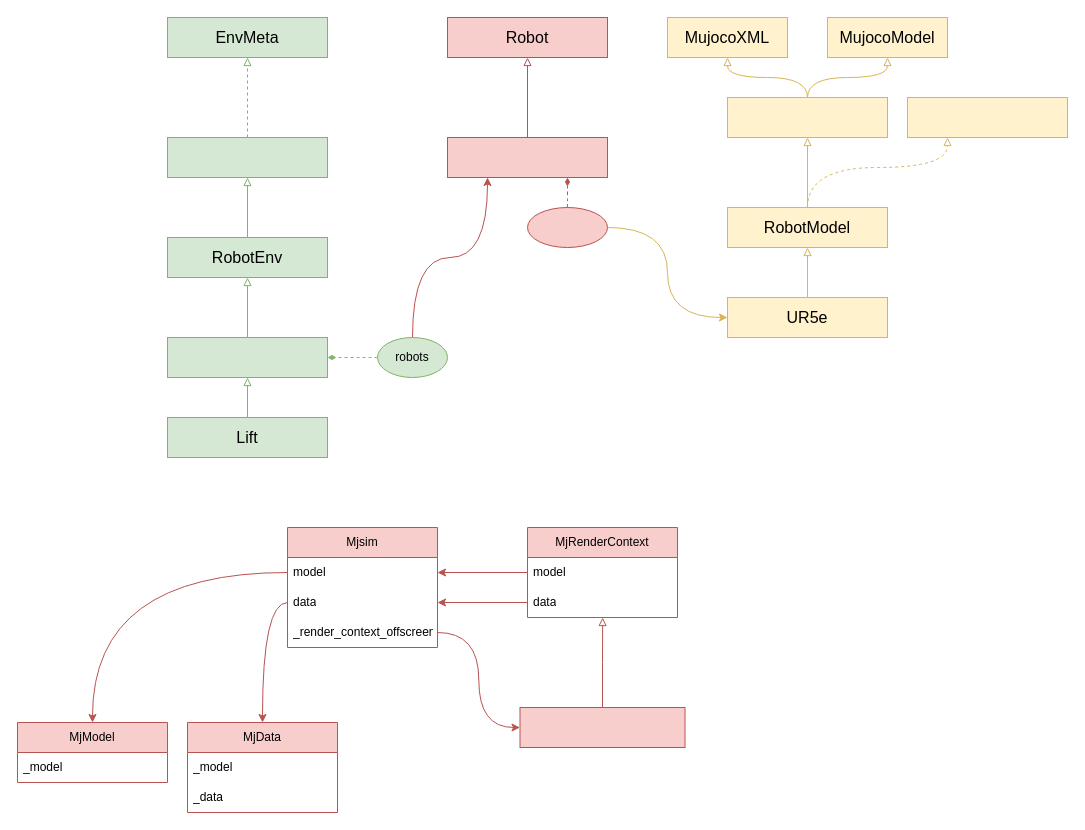
This 1085x830 diagram has some shape labels left out. Here are the shapes that lost their labels. From the top down, the centre of each, then its label:
At point 807,117: "MujocoXMLModel".
At point 987,117: "RobotModelMeta".
At point 247,157: "MujocoEnv".
At point 527,157: "SingleArm".
At point 567,227: "robot_model".
At point 247,357: "SingleArmEnv".
At point 602,727: "MjRenderContextOffscreen".
